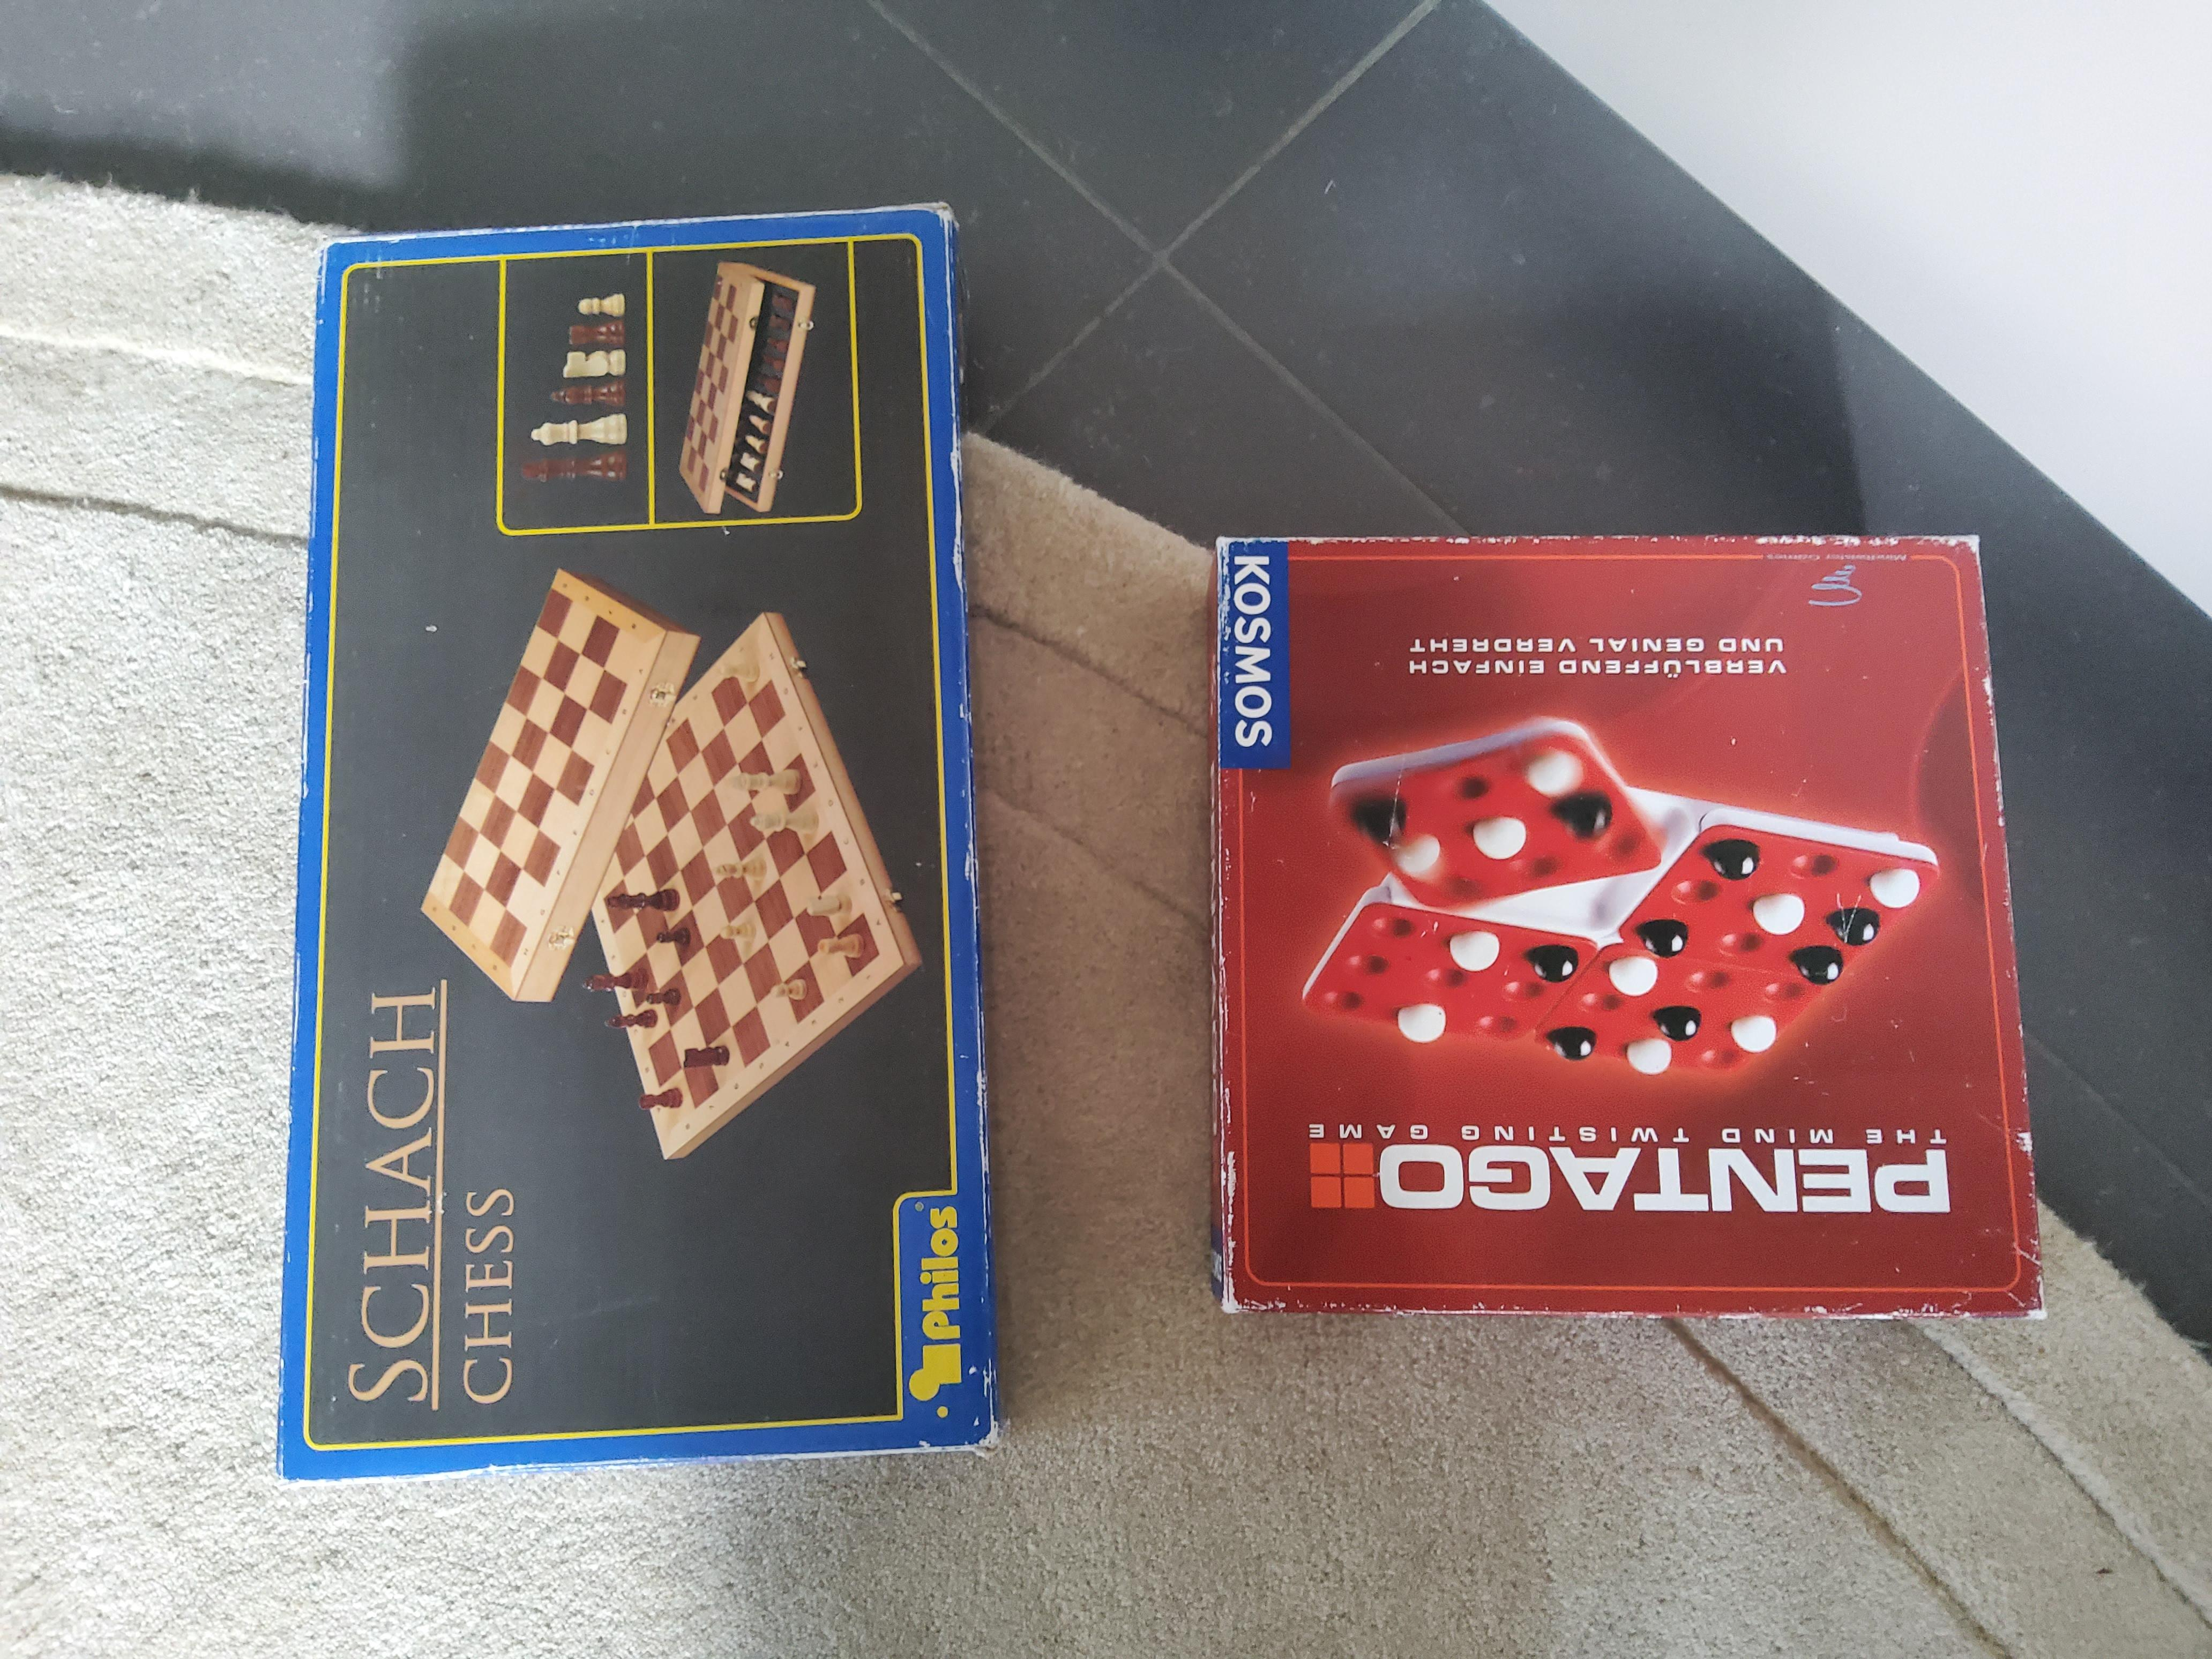pentago: (1200, 533, 2055, 1324)
schaak: (270, 190, 1001, 1485)
